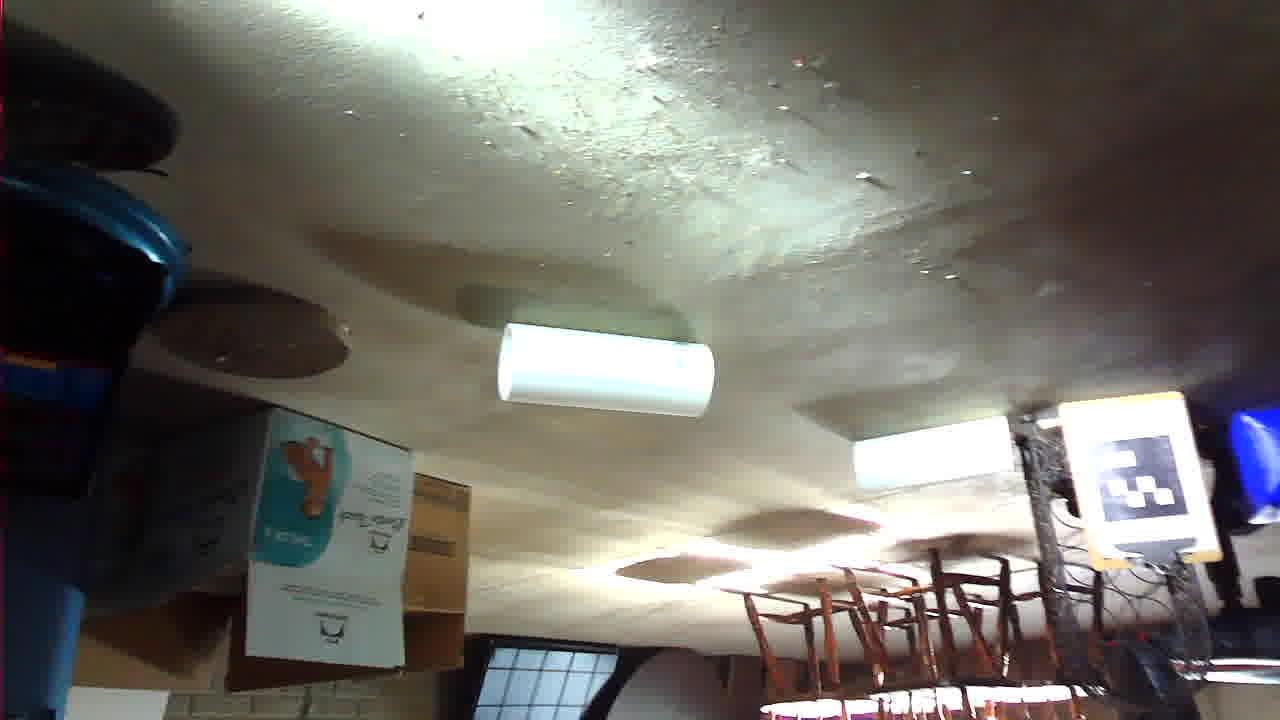coral: (566, 303, 782, 397), (270, 233, 425, 290)
